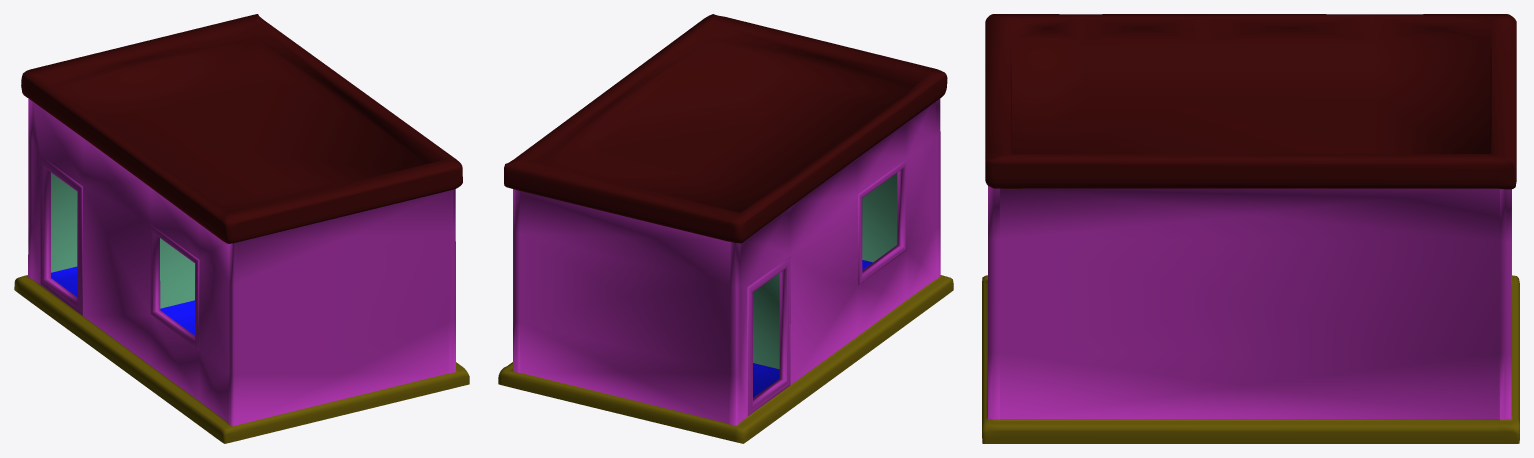
Rendered from Cabin_FBX.fbx.
3 renders of one model, left to right at view 1: azimuth 30°, elevation 25°; view 2: azimuth 150°, elevation 25°; view 3: azimuth 270°, elevation 25°, orthographic. The views are drawn at different scales.
Visible parts, largest first — view 1: Cabin; view 2: Cabin; view 3: Cabin.
Part boxes in pixels (x1=…): Cabin: x1=14, y1=14, x2=469, y2=443; Cabin: x1=498, y1=14, x2=953, y2=443; Cabin: x1=982, y1=14, x2=1519, y2=443.
Bounding box in the file's own units: 505 × 432 × 749.
